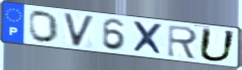6: (101, 17, 127, 52)
O: (28, 10, 61, 44)
R: (166, 24, 200, 61)
U: (197, 27, 238, 64)
V: (62, 11, 97, 49)
X: (131, 20, 166, 57)
